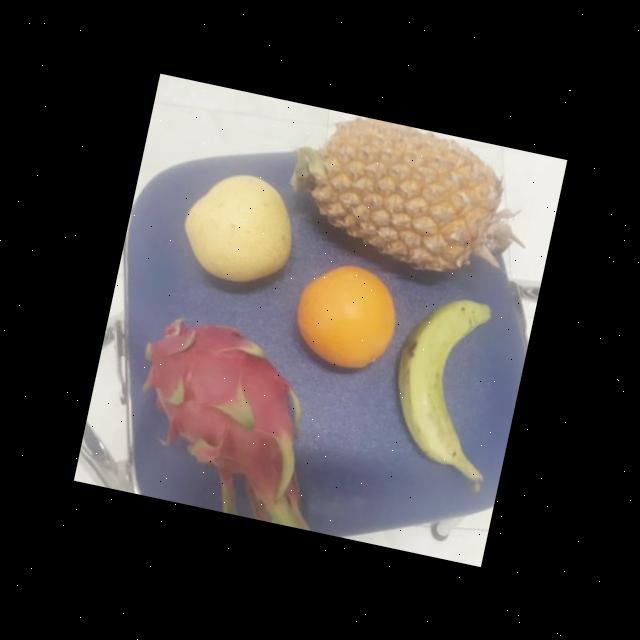banana: (378, 287, 504, 473)
guava: (171, 166, 303, 292), (282, 256, 404, 376)
pear: (282, 257, 406, 377)
pineapple: (290, 108, 510, 288)
pitaya: (115, 309, 322, 482)
